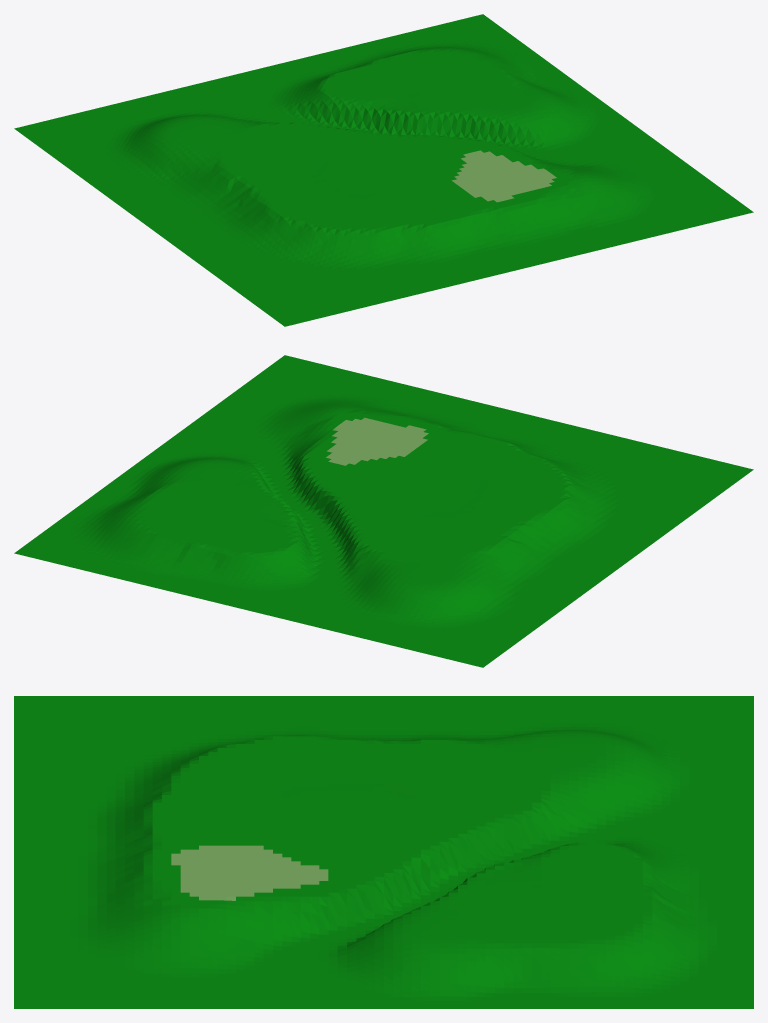
Rendered from terrenov3.fbx.
3 renders of one model, top to bottom at view 1: azimuth 30°, elevation 25°; view 2: azimuth 150°, elevation 25°; view 3: azimuth 270°, elevation 25°, orthographic. The views are drawn at different scales.
Parts seen in each view (by area): view 1: Plane001, Object002, Object001, Object004, Object003; view 2: Plane001, Object002, Object001, Object004, Object003; view 3: Plane001, Object002, Object001, Object004, Object003.
Part boxes in pixels (box(x1,y1,x2,y2)): Plane001: box(14, 14, 753, 326); Object002: box(262, 134, 446, 229); Object001: box(451, 150, 556, 202); Object004: box(332, 58, 455, 108); Object003: box(199, 122, 308, 159); Plane001: box(14, 355, 753, 667); Object002: box(313, 445, 568, 523); Object001: box(326, 417, 428, 465); Object004: box(165, 494, 290, 549); Object003: box(378, 524, 458, 573); Plane001: box(14, 696, 753, 1008); Object002: box(171, 740, 457, 885); Object001: box(171, 845, 328, 900); Object004: box(476, 845, 633, 919); Object003: box(439, 752, 578, 802).
Bounding box in the file's own units: 5000 × 167 × 5000.
